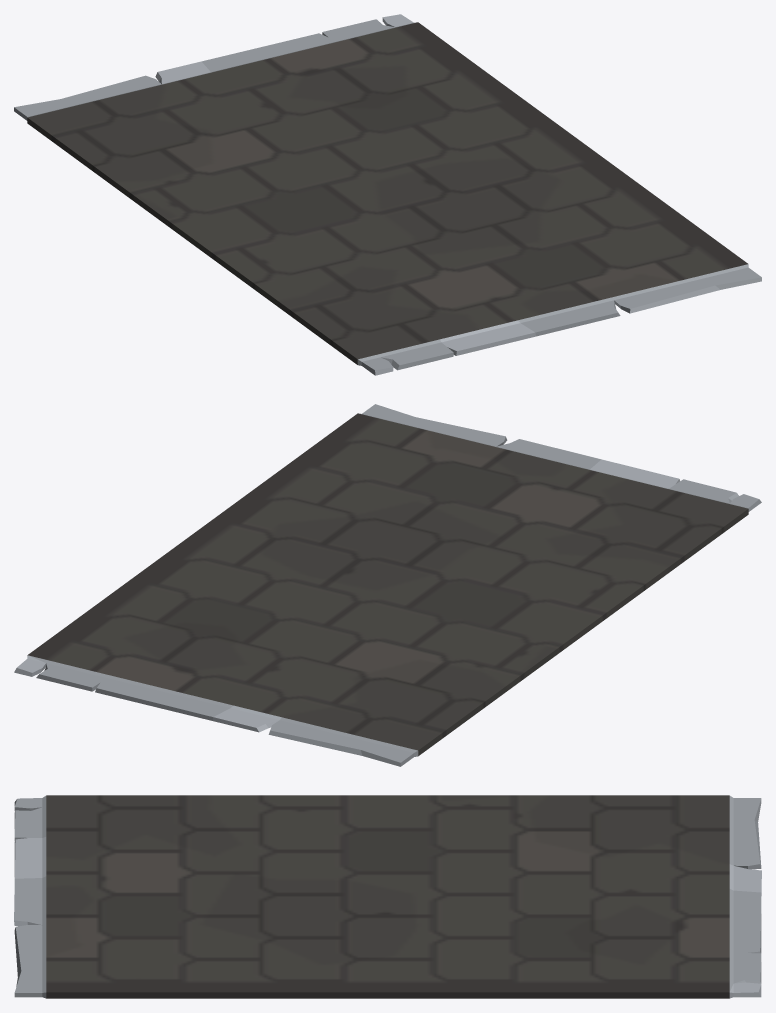
File: SM_Prop_Rug_01.fbx
The picture shows the model from 3 angles, top to bottom: view 1: azimuth 30°, elevation 25°; view 2: azimuth 150°, elevation 25°; view 3: azimuth 270°, elevation 25°; orthographic projection. The views are drawn at different scales.
Parts seen in each view (by area): view 1: SM_Prop_Rug_01; view 2: SM_Prop_Rug_01; view 3: SM_Prop_Rug_01.
Boxes of the visible parts, bbox=[...] form: SM_Prop_Rug_01: bbox=[14, 14, 761, 375]; SM_Prop_Rug_01: bbox=[14, 404, 761, 766]; SM_Prop_Rug_01: bbox=[14, 795, 761, 998].
Bounding box in the file's own units: 1.63 × 0.0237 × 2.62.
1 material, 1 textured.
